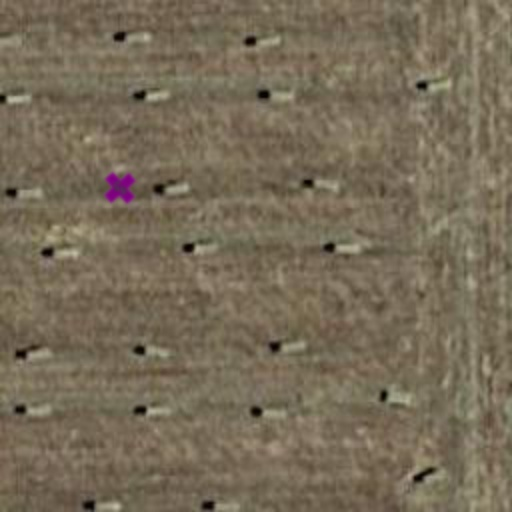cross: (94, 162, 146, 214)
